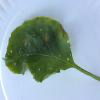Bell_pepper leaf spot: (0, 15, 75, 84)
